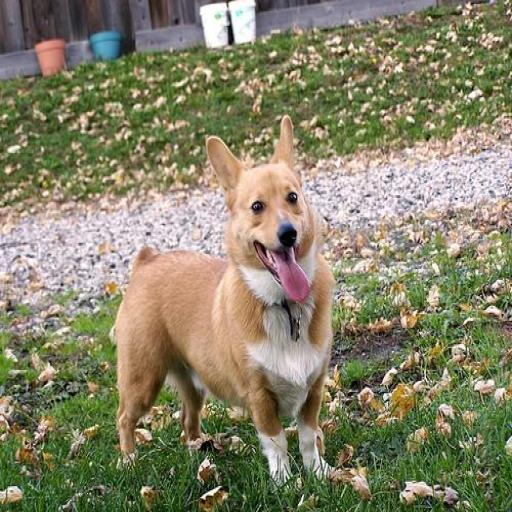dog_face: (204, 117, 313, 287)
